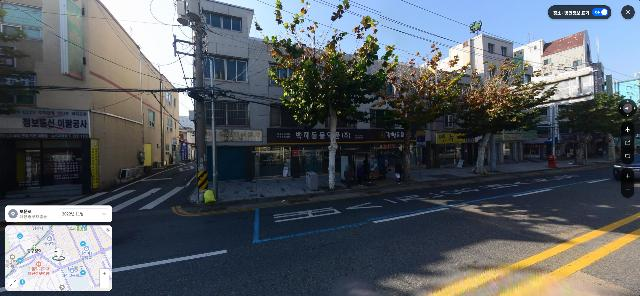other: (255, 0, 398, 189), (370, 44, 477, 181), (460, 56, 560, 174), (556, 91, 632, 165)
